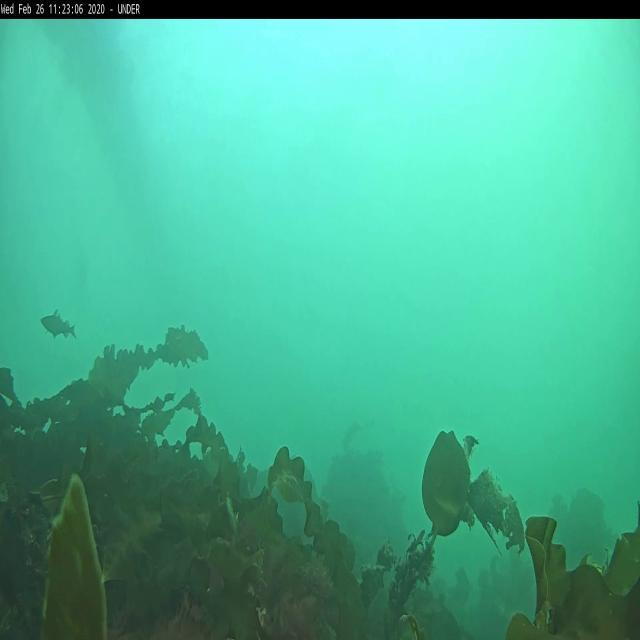fish: (41, 314, 74, 336)
